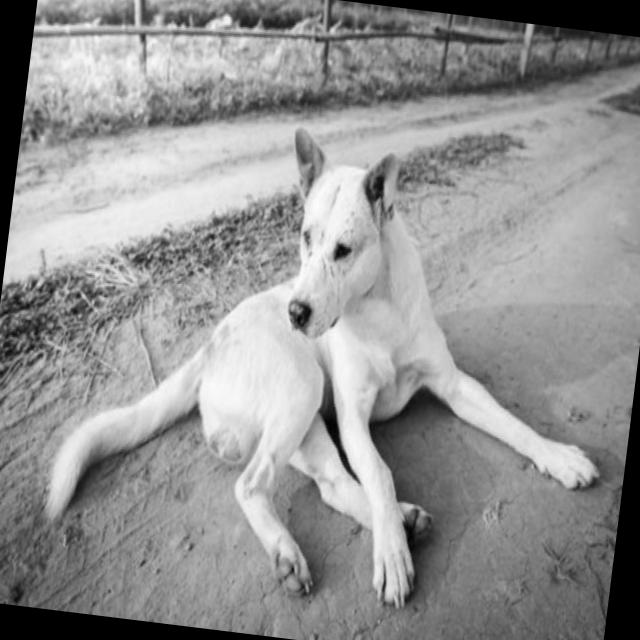laying down: (25, 94, 640, 636)
